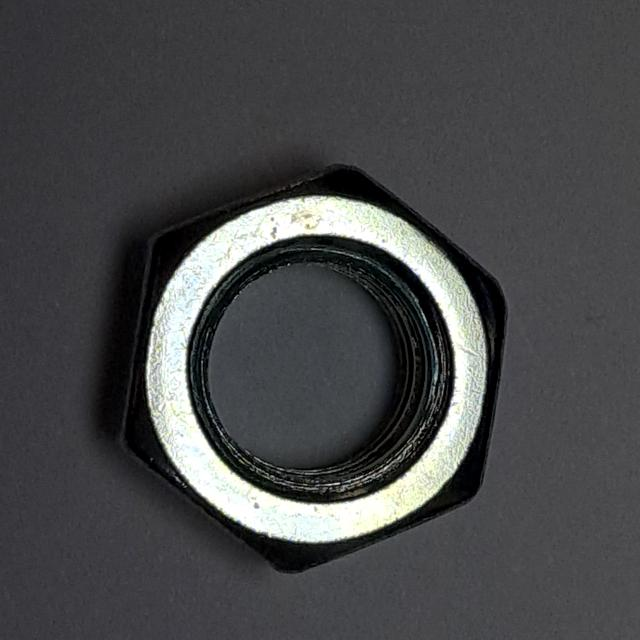Excellent: (104, 153, 519, 584)
